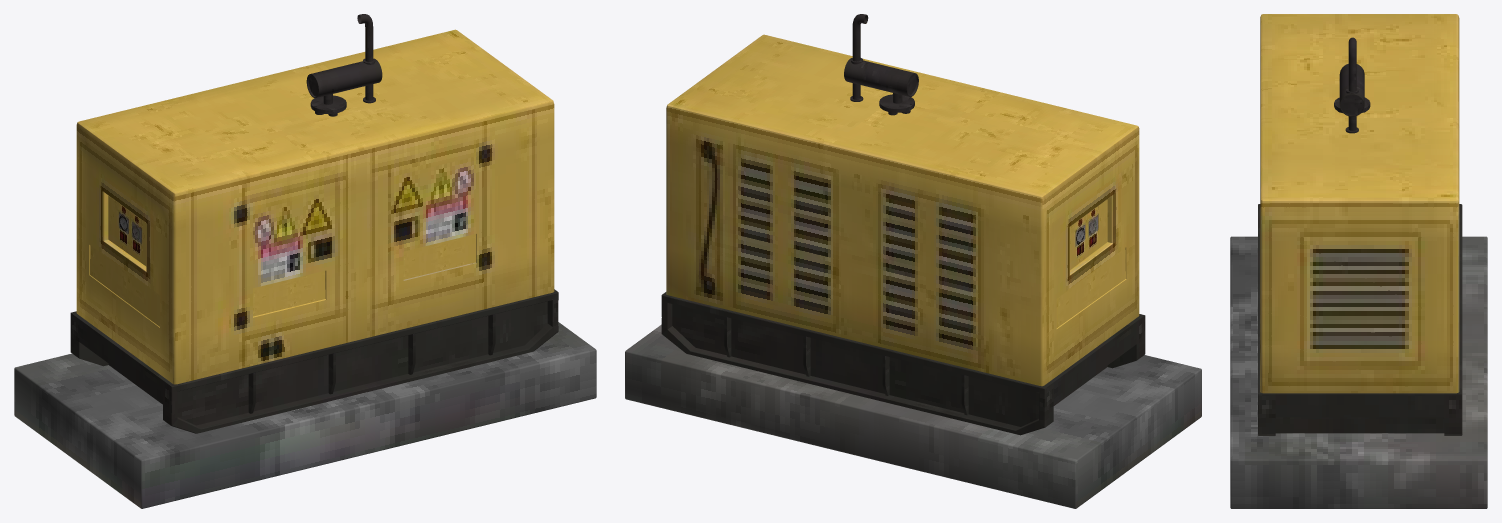
Rendered from generador.glb.
The picture shows the model from 3 angles, left to right: view 1: azimuth 30°, elevation 25°; view 2: azimuth 150°, elevation 25°; view 3: azimuth 270°, elevation 25°; orthographic projection.
Parts seen in each view (by area): view 1: Object_3; view 2: Object_3; view 3: Object_3.
Boxes of the visible parts, x1=… form: Object_3: x1=14, y1=14, x2=596, y2=508; Object_3: x1=625, y1=14, x2=1201, y2=508; Object_3: x1=1230, y1=14, x2=1487, y2=508.
Bounding box in the file's own units: 229 × 183 × 111.
1 material, 1 textured.
